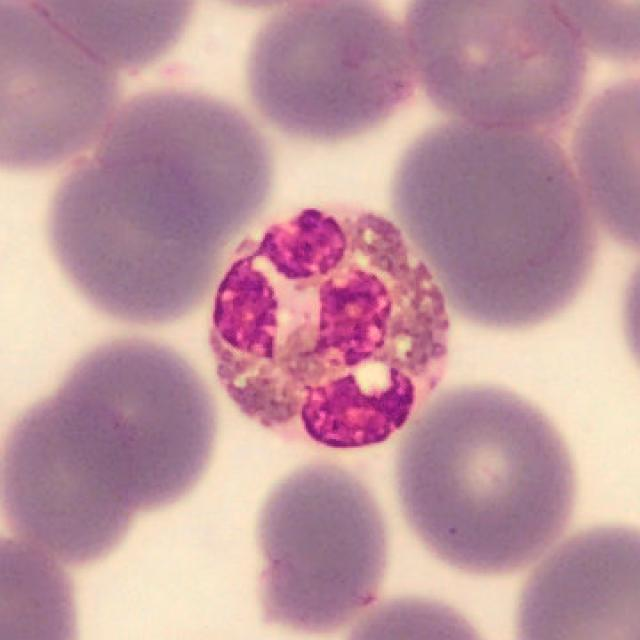Eosinofilo: (208, 208, 452, 452)
